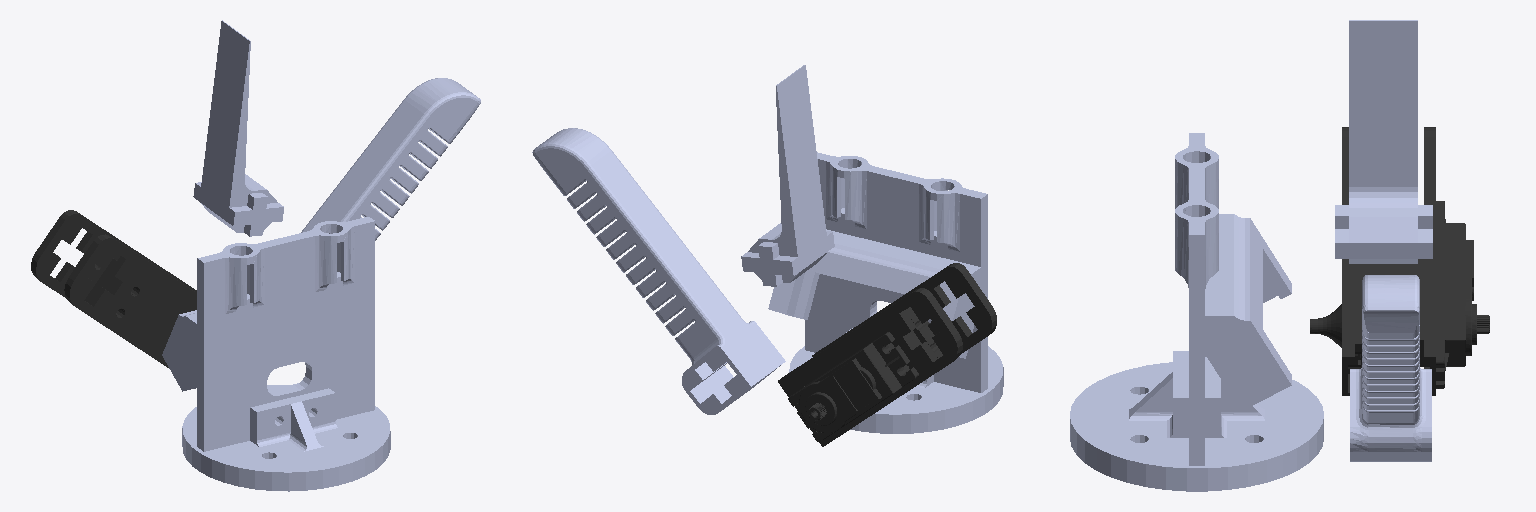
The robot description file, URDF, robot "soft hybrid gripper URDF":
<?xml version="1.0" encoding="utf-8"?>
<!-- This URDF was automatically created by SolidWorks to URDF Exporter! Originally created by [author] ([email redacted])
     Commit Version: 1.5.1-0-g916b5db  Build Version: 1.5.7152.31018
     For more information, please see http://wiki.ros.org/sw_urdf_exporter -->
<robot
  name="soft hybrid gripper URDF">
  <link
    name="base_link2">
    <inertial>
      <origin
        xyz="0.000176879397903153 0.0171745476796605 0.00798016750513526"
        rpy="0 0 0" />
      <mass
        value="0.117842634947847" />
      <inertia
        ixx="0.000366414508469255"
        ixy="1.72345228700625E-05"
        ixz="6.18123429105568E-06"
        iyy="6.80036131268536E-05"
        iyz="-2.47128778299121E-05"
        izz="0.000409756967424389" />
    </inertial>
    <visual>
      <origin
        xyz="0 0 0"
        rpy="0 0 0" />
      <geometry>
        <mesh
          filename="collision/base_link1.STL" />
      </geometry>
      <material
        name="">
        <color
          rgba="0.792156862745098 0.819607843137255 0.933333333333333 1" />
      </material>
    </visual>
    <collision>
      <origin
        xyz="0 0 0"
        rpy="0 0 0" />
      <geometry>
        <mesh
          filename="collision/base_link1.STL" />
      </geometry>
    </collision>
  </link>
  <link
    name="rigid_link2">
    <inertial>
      <origin
        xyz="0.00246082393825808 0.00389924820387103 0.0131191901389871"
        rpy="0 0 0" />
      <mass
        value="0.0445322519868914" />
      <inertia
        ixx="1.52433784006711E-05"
        ixy="5.80078149789572E-09"
        ixz="-1.18934068666226E-06"
        iyy="1.3594081592835E-05"
        iyz="6.27237025112029E-08"
        izz="6.46351202019257E-06" />
    </inertial>
    <visual>
      <origin
        xyz="0 0 0"
        rpy="0 0 0" />
      <geometry>
        <mesh
          filename="collision/rigid_link.STL" />
      </geometry>
      <material
        name="">
        <color
          rgba="0.250980392156863 0.250980392156863 0.250980392156863 1" />
      </material>
    </visual>
    <collision>
      <origin
        xyz="0 0 0"
        rpy="0 0 0" />
      <geometry>
        <mesh
          filename="collision/rigid_link.STL" />
      </geometry>
    </collision>
  </link>
  <joint
    name="rigid_rev_joint2"
    type="continuous">
    <origin
      xyz="-0.018 0.0604 0.031"
      rpy="0 0 0" />
    <parent
      link="base_link2" />
    <child
      link="rigid_link2" />
    <axis
      xyz="0 -1 0" />
    <limit
      lower="-3.1415926"
      upper="3.1415926"
      effort="0"
      velocity="0" />
  </joint>
  <link
    name="rigid_tip_link2">
    <inertial>
      <origin
        xyz="0.00774095772540574 -0.000850000000000101 -0.0611318896625747"
        rpy="0 0 0" />
      <mass
        value="0.0134476259243688" />
      <inertia
        ixx="4.91541805903652E-06"
        ixy="-3.45478559862873E-21"
        ixz="8.62881671033877E-07"
        iyy="4.67899851023964E-06"
        iyz="-2.20620740059224E-20"
        izz="1.28227238645747E-06" />
    </inertial>
    <visual>
      <origin
        xyz="0 0 0"
        rpy="0 0 0" />
      <geometry>
        <mesh
          filename="collision/rigid_tip_link.STL" />
      </geometry>
      <material
        name="">
        <color
          rgba="0.792156862745098 0.819607843137255 0.933333333333333 1" />
      </material>
    </visual>
    <collision>
      <origin
        xyz="0 0 0"
        rpy="0 0 0" />
      <geometry>
        <mesh
          filename="collision/rigid_tip_link.STL" />
      </geometry>
    </collision>
  </link>
  <joint
    name="rigid_tip_joint2"
    type="fixed">
    <origin
      xyz="0.029389 -0.00085 0.11906"
      rpy="0 -0.13252 -3.1416" />
    <parent
      link="rigid_link2" />
    <child
      link="rigid_tip_link2" />
    <axis
      xyz="0 1 0" />
  </joint>
  <link
    name="soft_tip_link2">
    <inertial>
      <origin
        xyz="-0.0672819098084754 -5.77278610192078E-08 -0.00123656065002749"
        rpy="0 0 0" />
      <mass
        value="0.0267549348618611" />
      <inertia
        ixx="2.96189216662522E-06"
        ixy="6.273448191828E-11"
        ixz="-5.21931039474125E-06"
        iyy="3.93840137119762E-05"
        iyz="-4.51104709728545E-12"
        izz="3.84440209403678E-05" />
    </inertial>
    <visual>
      <origin
        xyz="0 0 0"
        rpy="0 0 0" />
      <geometry>
        <mesh
          filename="collision/soft_tip_link.STL" />
      </geometry>
      <material
        name="">
        <color
          rgba="0.792156862745098 0.819607843137255 0.933333333333333 1" />
      </material>
    </visual>
    <collision>
      <origin
        xyz="0 0 0"
        rpy="0 0 0" />
      <geometry>
        <mesh
          filename="collision/soft_tip_link.STL" />
      </geometry>
    </collision>
  </link>
  <joint
    name="soft_tip_joint2"
    type="fixed">
    <origin
      xyz="0.11681 0.061 0.098742"
      rpy="0 -0.66549 0" />
    <parent
      link="base_link2" />
    <child
      link="soft_tip_link2" />
    <axis
      xyz="0 0 0" />
  </joint>
</robot>

--- What the picture shows (computed from the rendered views, not written in the file) ---
The picture shows the robot from 3 angles, left to right: view 1: azimuth 30°, elevation 25°; view 2: azimuth 150°, elevation 25°; view 3: azimuth 270°, elevation 25°; orthographic projection.
Robot: soft hybrid gripper URDF — 4 links, 3 joints (1 continuous, 2 fixed); root link base_link2; default pose: every joint at zero.
Links seen in each view (by area): view 1: base_link2, rigid_link2, soft_tip_link2, rigid_tip_link2; view 2: base_link2, soft_tip_link2, rigid_link2, rigid_tip_link2; view 3: base_link2, rigid_tip_link2, rigid_link2, soft_tip_link2.
Link boxes in pixels (x1,y1,x2,y2): base_link2: [162, 217, 390, 491]; rigid_link2: [31, 210, 196, 367]; soft_tip_link2: [301, 78, 480, 240]; rigid_tip_link2: [193, 20, 283, 236]; base_link2: [768, 152, 1003, 433]; soft_tip_link2: [532, 128, 785, 414]; rigid_link2: [778, 263, 996, 446]; rigid_tip_link2: [741, 65, 834, 286]; base_link2: [1070, 133, 1323, 491]; rigid_tip_link2: [1335, 20, 1432, 263]; rigid_link2: [1310, 127, 1489, 395]; soft_tip_link2: [1350, 275, 1431, 461].
Size in the robot's own frame: 0.1867 by 0.1321 by 0.1501 metres.
4 mesh visuals loaded from 4 distinct referenced files (4 binary STL).